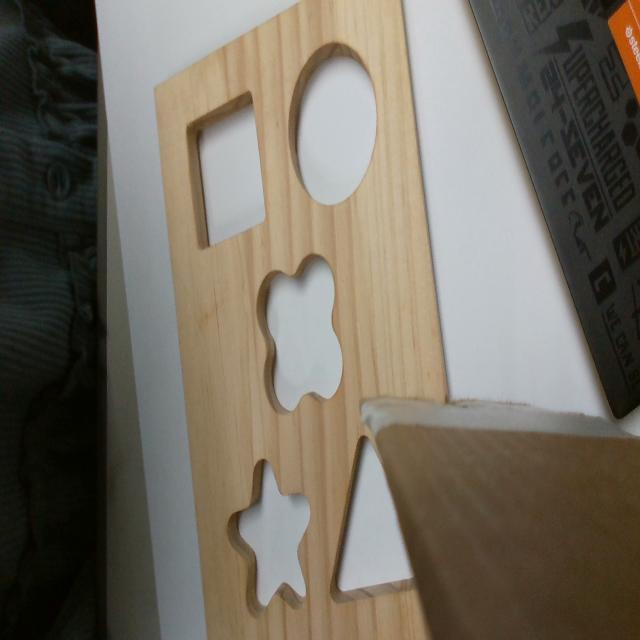circle: (288, 41, 378, 207)
flower: (255, 253, 344, 415)
square: (187, 88, 268, 249)
star: (225, 461, 311, 619)
triangle: (324, 435, 418, 607)
